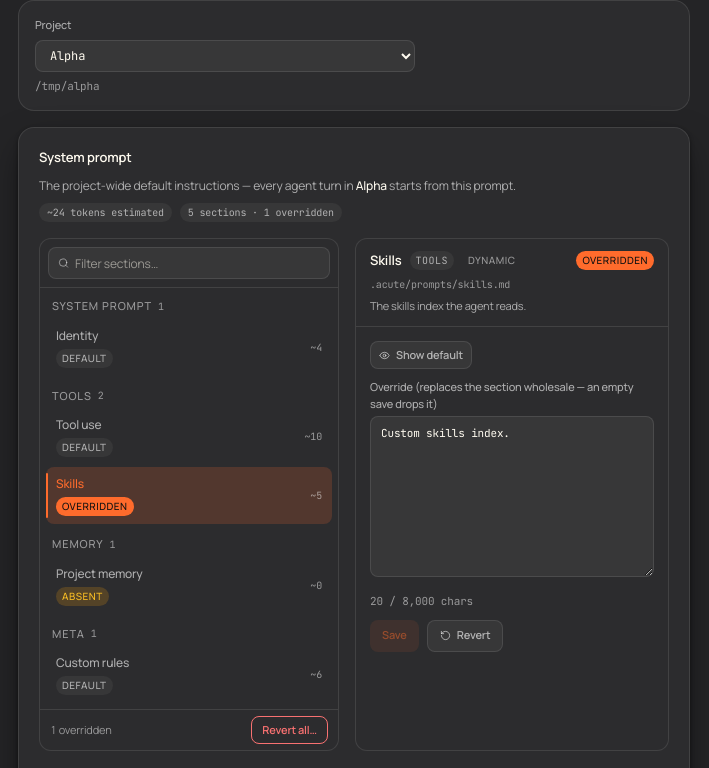
Test: PromptsTab (ROUND-99 R99-F — the project-wide system prompt redesign) › Revert → DELETE on the overridden row, the state flips back to default, and the editor STAYS on the reverted section
Expected: the text with test id "prompt-status-skills" is shown, top-left (56, 497), bottom-right (134, 516)
Expected: the text with test id "prompt-status-skills" reads "overridden", top-left (62, 499), bottom-right (128, 513)
Click the button with aria-label "Revert skills to the default text": click(465, 636) top-left (427, 620), bottom-right (504, 652)
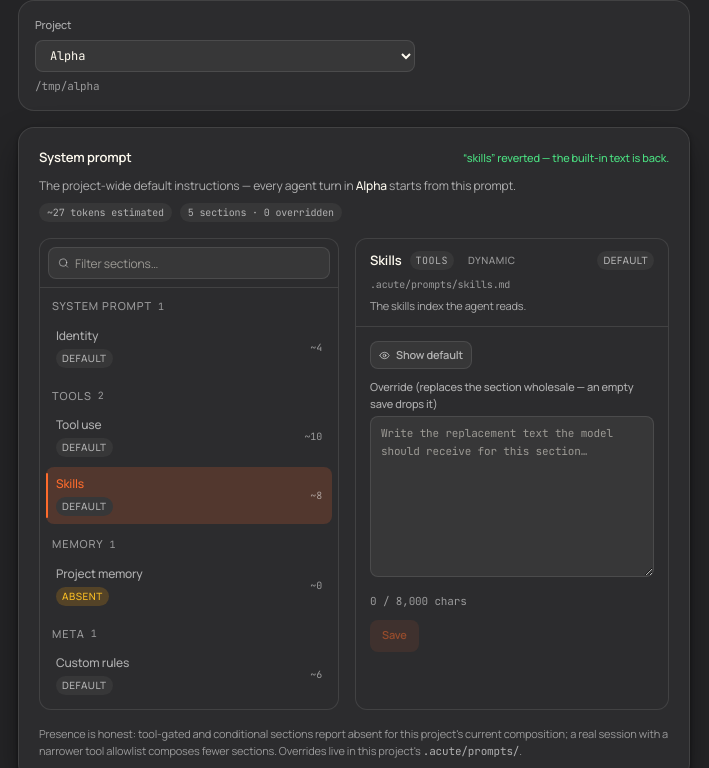
Expected: the text with test id "prompt-status-skills" reads "default", top-left (62, 499), bottom-right (107, 513)
Expected: the text box named "Edit the override for skills" is empty, top-left (370, 416), bottom-right (654, 577)
